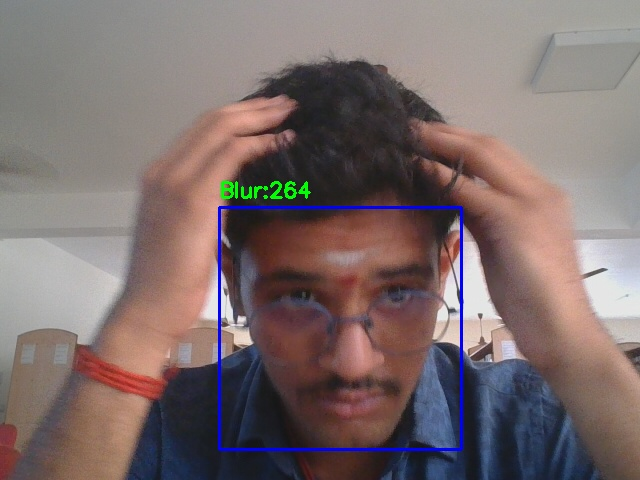real: (219, 207, 461, 449)
